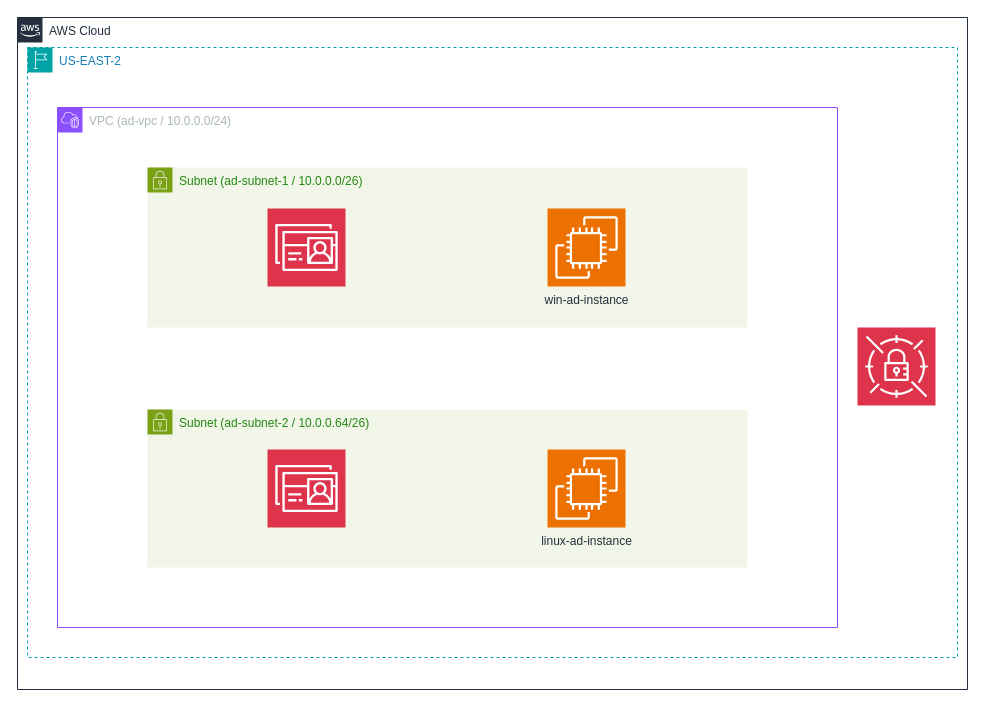
Image size: 985x707. Some labels were removed from this diagram. Here are the shapes that lost their labels. From the top down, the centre of each, then its label:
point 306,247: mcloud.mikecloud.com DC1
point 896,366: Secrets
point 306,488: mcloud.mikecloud.com DC2
